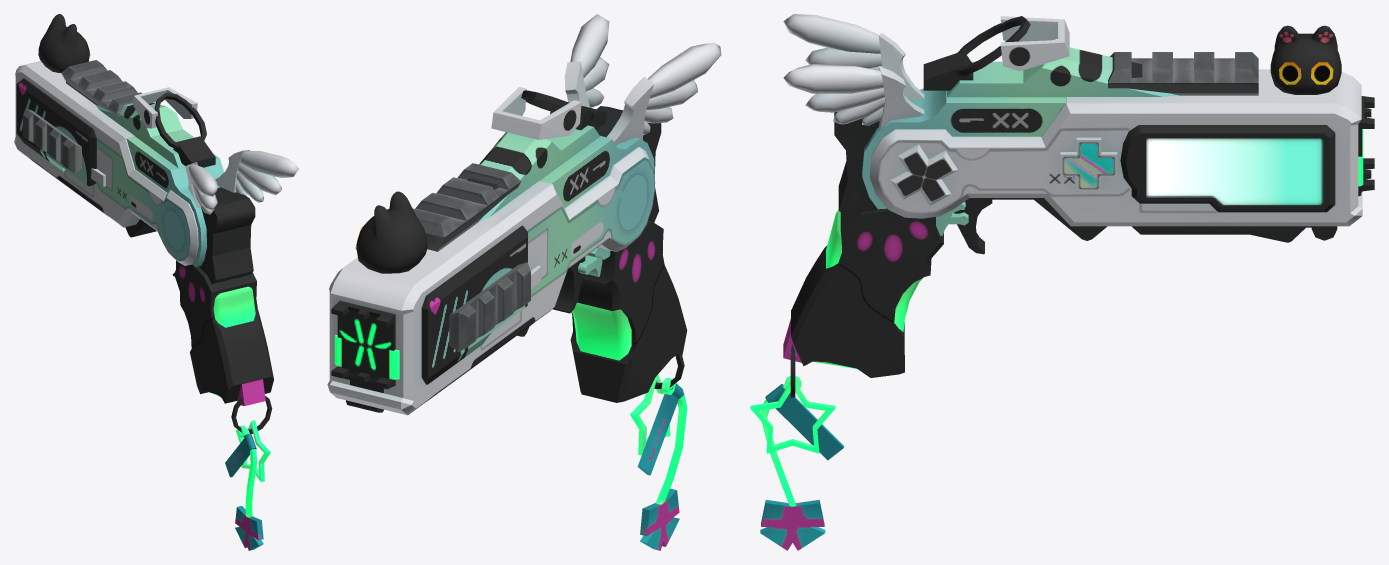
Rendered from IG_Gun_MingChao_Lynae.fbx.
3 views of the same model, side by side, from view 1: azimuth 30°, elevation 25°; view 2: azimuth 150°, elevation 25°; view 3: azimuth 270°, elevation 25° (orthographic). The views are drawn at different scales.
Visible parts, largest first — view 1: WPN_WW_Lynae, ShowIf_Scope, ShowIf_Tec; view 2: WPN_WW_Lynae, ShowIf_Scope, ShowIf_Tec; view 3: WPN_WW_Lynae, ShowIf_Scope.
Part boxes in pixels (<box>): WPN_WW_Lynae: <box>14,14,298,550</box>; ShowIf_Scope: <box>61,60,141,117</box>; ShowIf_Tec: <box>23,108,81,173</box>; WPN_WW_Lynae: <box>327,14,721,550</box>; ShowIf_Scope: <box>412,163,521,251</box>; ShowIf_Tec: <box>449,262,530,352</box>; WPN_WW_Lynae: <box>750,14,1374,550</box>; ShowIf_Scope: <box>1108,52,1258,95</box>.
Bounding box in the file's own units: 0.1529 × 0.6043 × 0.6436.
